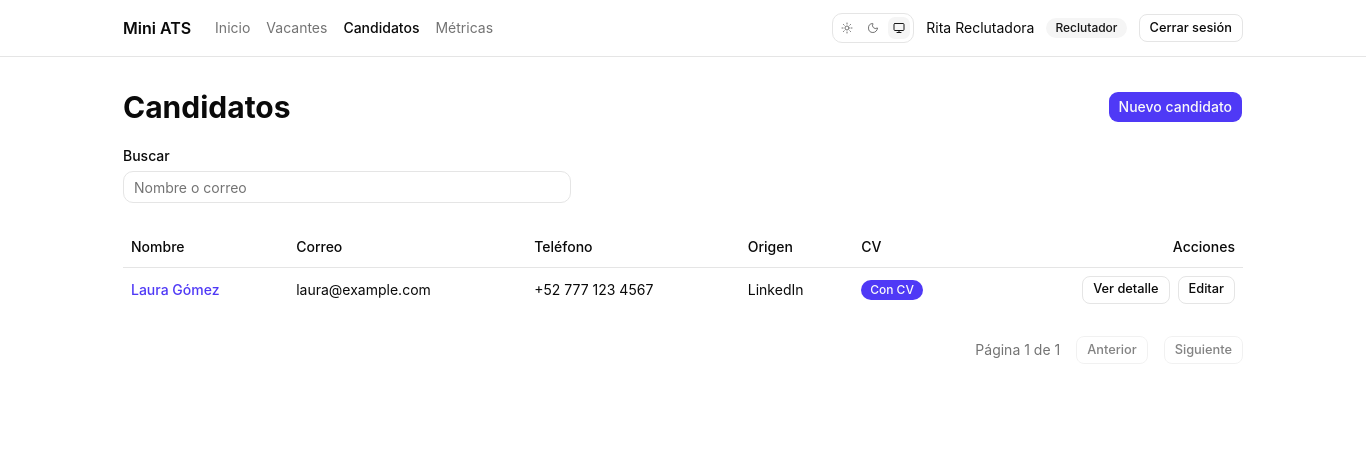
Scenario: CandidatesPage › navigates with the Ver detalle de Laura Gómez action
Click the link with aria-label "Ver detalle de Laura Gómez" at [1126, 290], box x1=1082 y1=276 x2=1170 y2=304
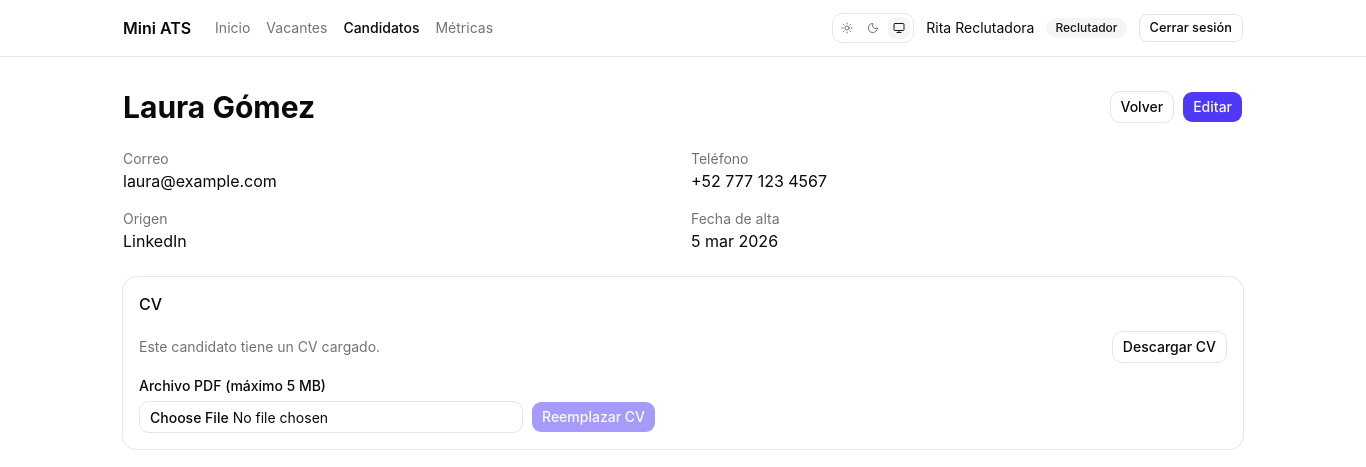
Now the heading "Laura Gómez" is shown, box x1=123 y1=89 x2=315 y2=125
